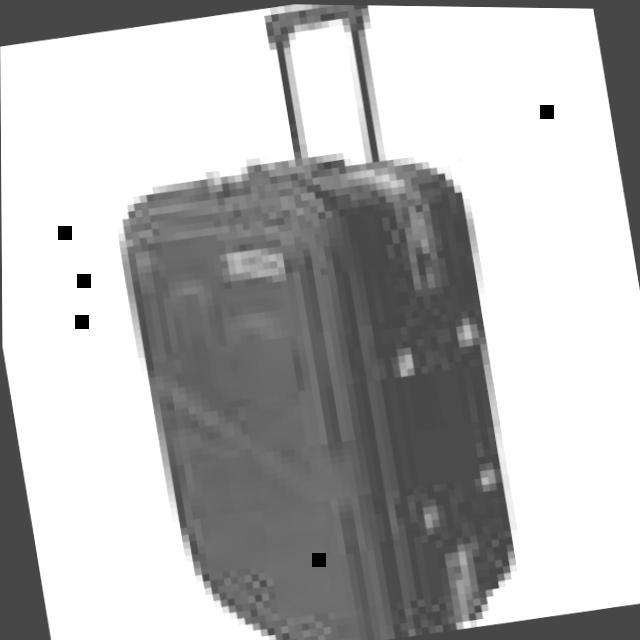luggage: (93, 112, 559, 640)
